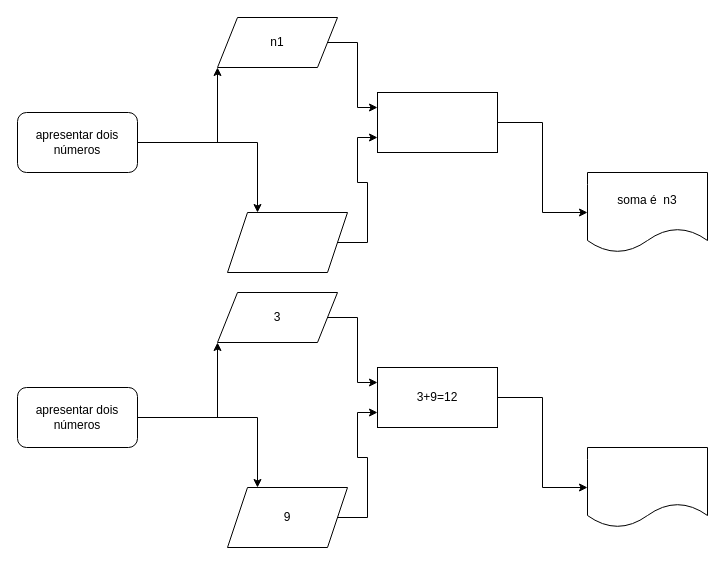
The diagram is 725 pixels wide and 565 high, and some of its shapes have lost their labels. Here are the shapes that lost their labels. From the top down, the box of each, then its label:
(376, 92, 498, 152): N1+N2=n3
(226, 212, 348, 272): n2
(586, 446, 708, 528): soma é 12
